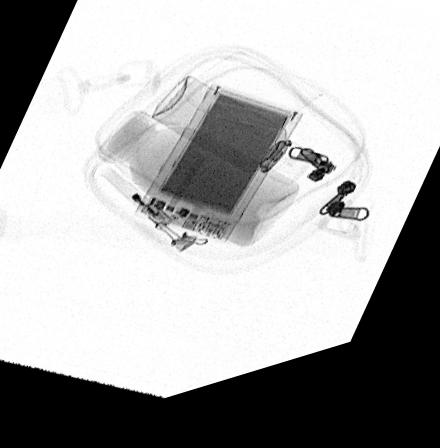Lighter: (100, 173, 175, 239)
Powerbank: (134, 97, 302, 257)
Sprayer: (152, 88, 312, 204)
